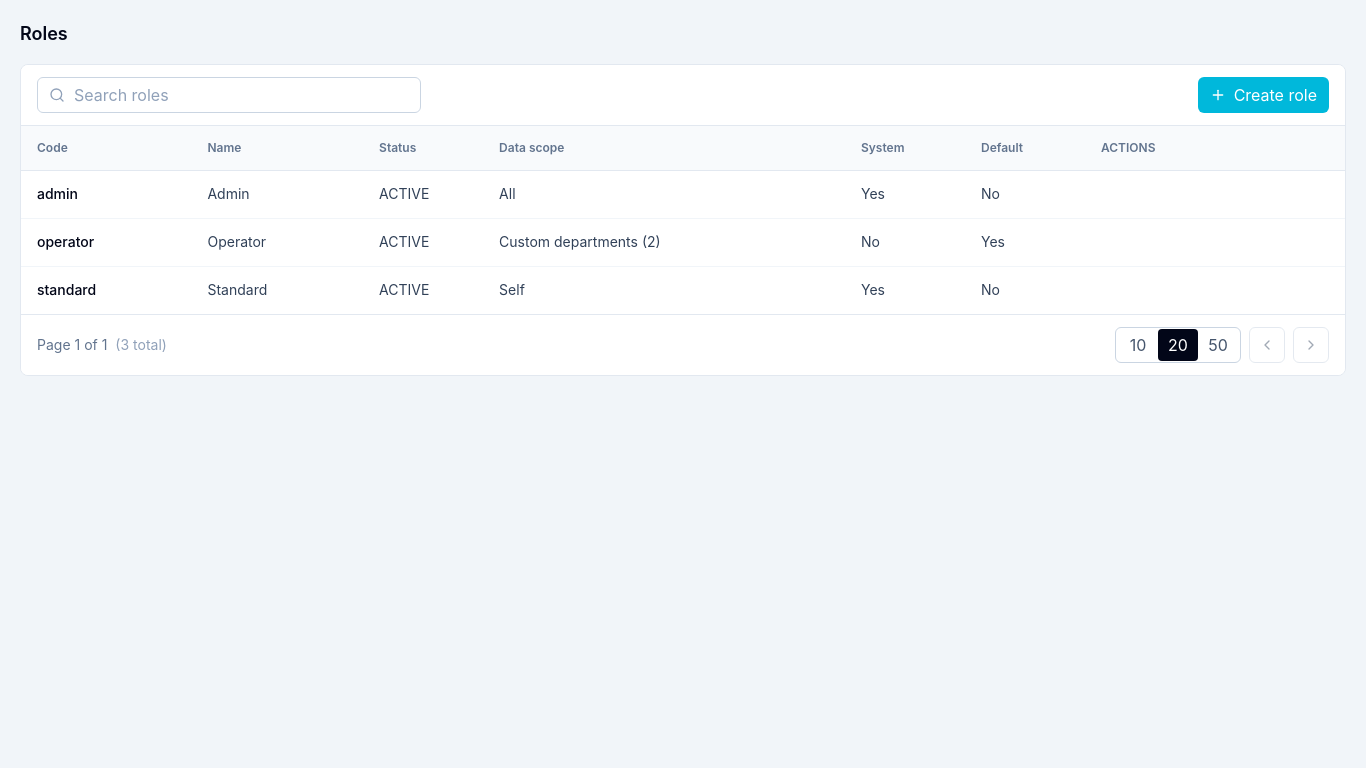
Test: RolesPage › opens create dialog when role.create is granted
Click the button "Create role". click: (1263, 95)
box: [1198,77,1329,113]
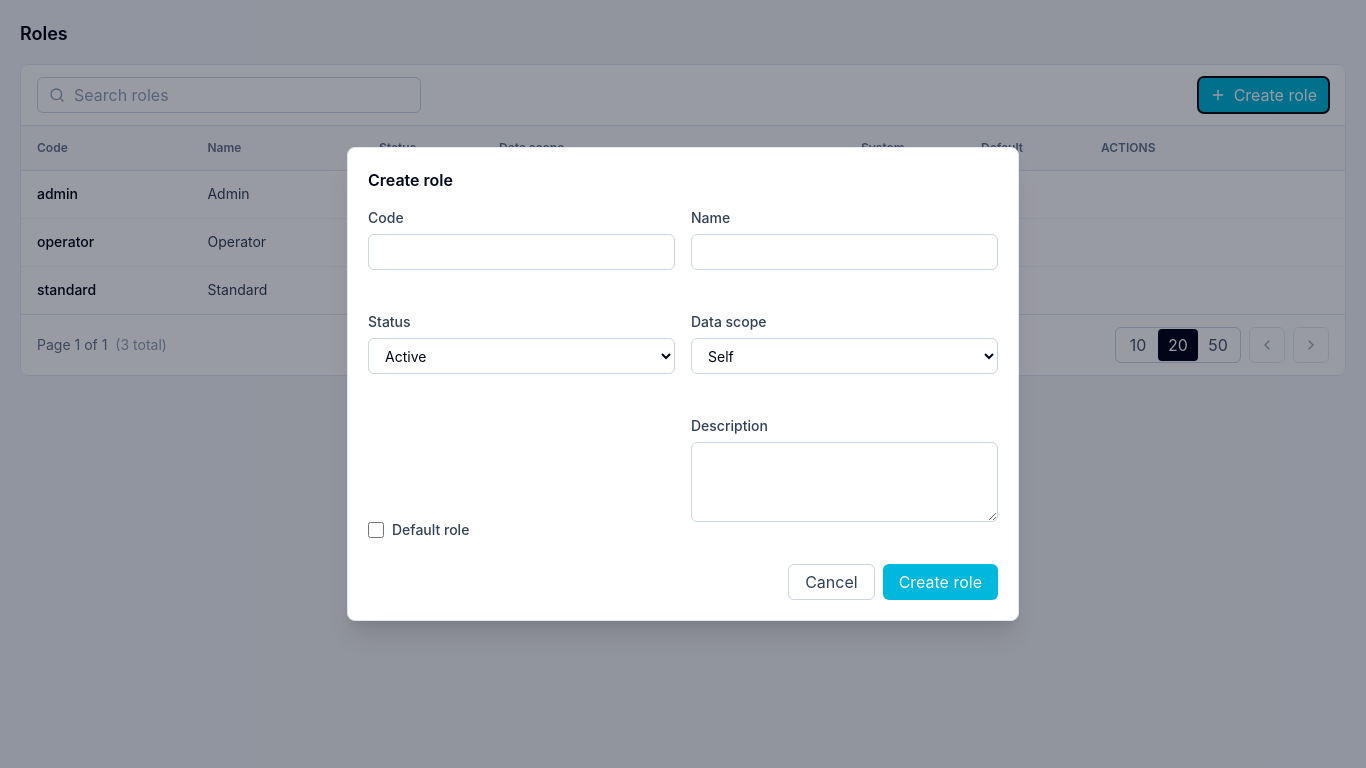
Now the dialog is shown
Now the field labelled "Code" is shown, box [368,234,675,270]
